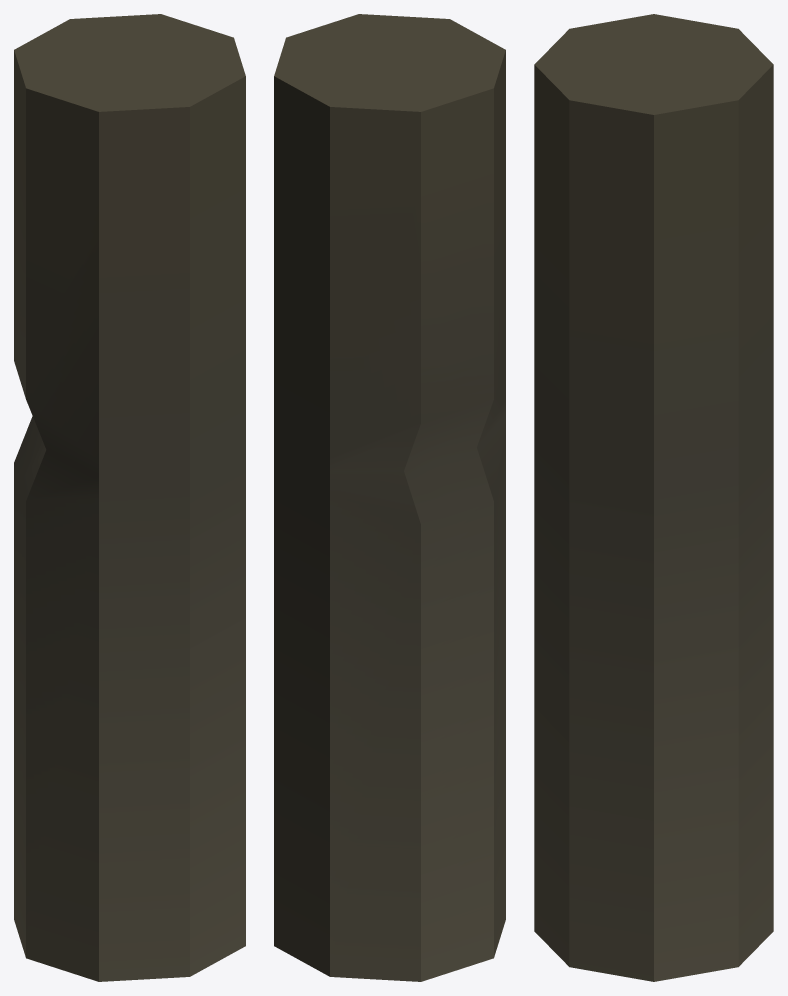
Rendered from ruinspasted__polySurface127.fbx.
3 views of the same model, side by side, from view 1: azimuth 30°, elevation 25°; view 2: azimuth 150°, elevation 25°; view 3: azimuth 270°, elevation 25° (orthographic).
Visible parts, largest first — view 1: pasted__polySurface127; view 2: pasted__polySurface127; view 3: pasted__polySurface127.
Boxes of the visible parts, x1,y1,x2,y2 form: pasted__polySurface127: [14, 14, 245, 981]; pasted__polySurface127: [274, 14, 505, 981]; pasted__polySurface127: [534, 14, 773, 981].
Bounding box in the file's own units: 0.5 × 2 × 0.5.
